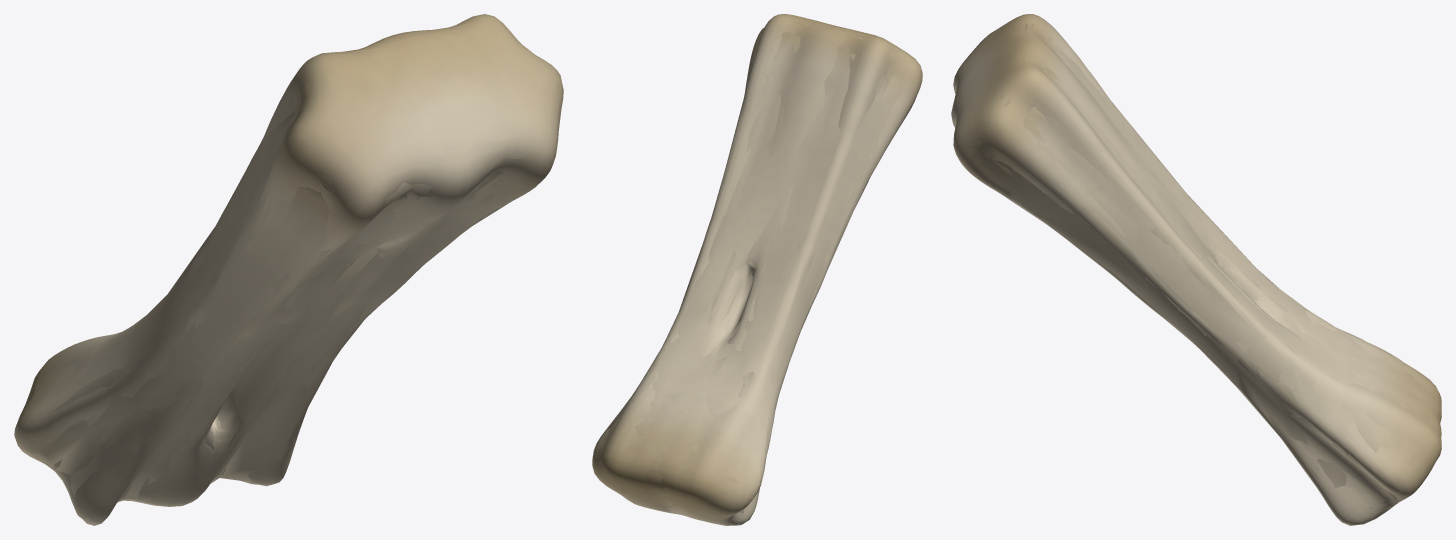
Rendered from vertebrae caudales 12.fbx.
3 renders of one model, left to right at view 1: azimuth 30°, elevation 25°; view 2: azimuth 150°, elevation 25°; view 3: azimuth 270°, elevation 25°, orthographic. The views are drawn at different scales.
Parts seen in each view (by area): view 1: vertebrae caudales 12 high, vertebrae caudales 12 low, vertebrae caudales 12; view 2: vertebrae caudales 12 high, vertebrae caudales 12 low, vertebrae caudales 12; view 3: vertebrae caudales 12 high, vertebrae caudales 12 low, vertebrae caudales 12.
Boxes of the visible parts, x1,y1,x2,y2 form: vertebrae caudales 12 high: (14, 14, 563, 525); vertebrae caudales 12 low: (27, 26, 536, 502); vertebrae caudales 12: (25, 23, 561, 501); vertebrae caudales 12 high: (592, 14, 922, 525); vertebrae caudales 12 low: (598, 22, 902, 517); vertebrae caudales 12: (597, 17, 907, 522); vertebrae caudales 12 high: (951, 14, 1441, 525); vertebrae caudales 12 low: (955, 23, 1440, 512); vertebrae caudales 12: (954, 25, 1439, 516).
Bounding box in the file's own units: 2.13 × 4.79 × 4.69.
